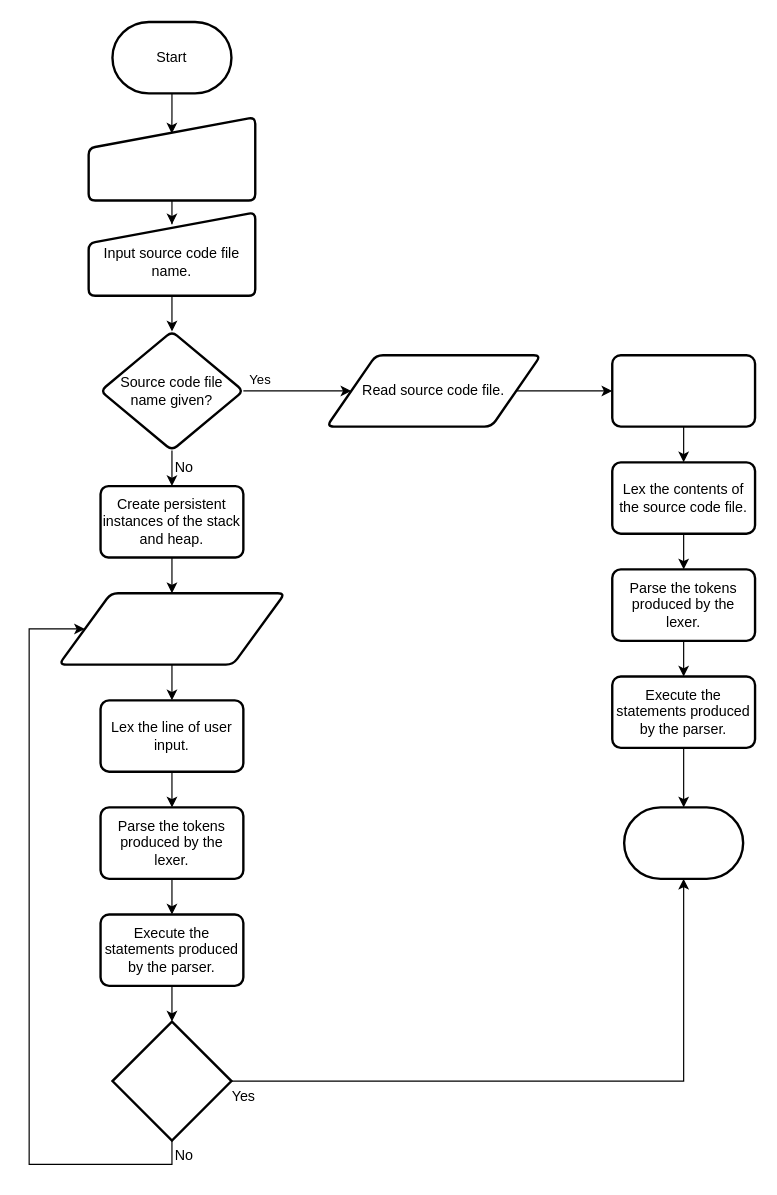
This 777x1195 diagram has some shape labels left out. Each missing label, with the centre of its shape:
"Create instances of the stack and heap." goes at (x=683, y=390).
"End" goes at (x=683, y=842).
"Input memory management strategy." goes at (x=171, y=158).
"Read a line of user input." goes at (x=171, y=628).
"User pressed Ctrl+C?" goes at (x=171, y=1080).
